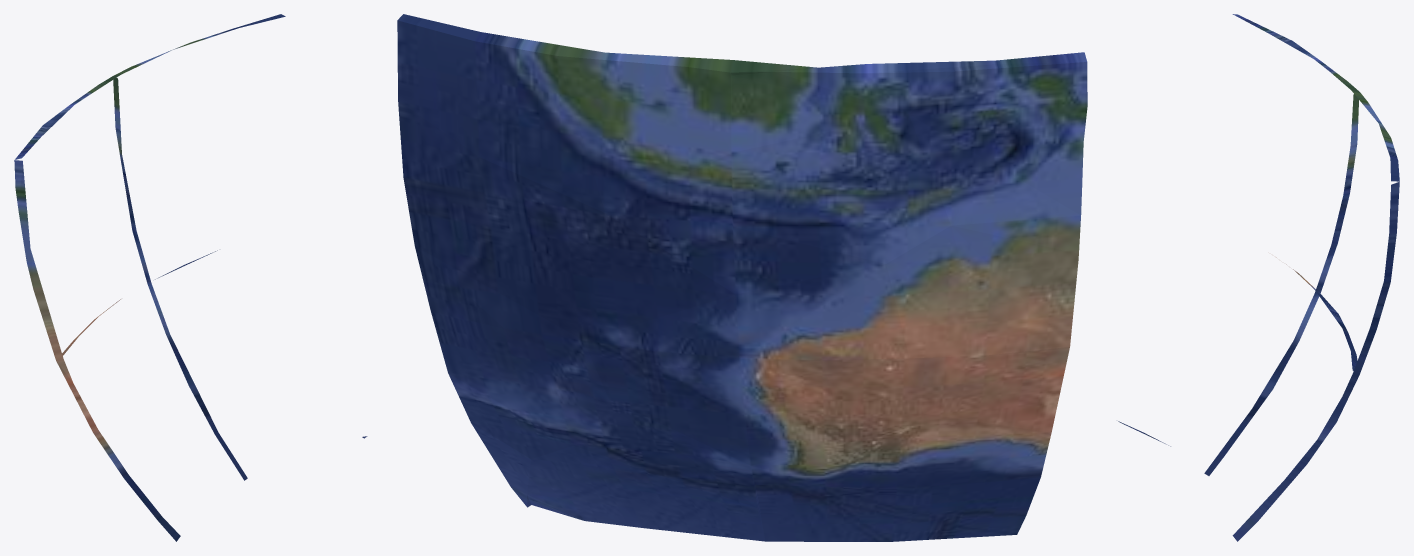
3 views of the same model, side by side, from view 1: azimuth 30°, elevation 25°; view 2: azimuth 150°, elevation 25°; view 3: azimuth 270°, elevation 25° (orthographic). The views are drawn at different scales.
Bounding box in the file's own units: 4589562 × 4566190 × 3239257.
1 material, 1 textured.
